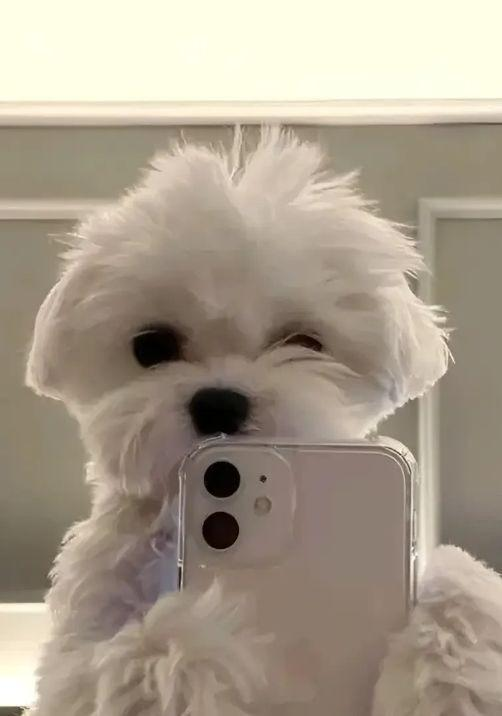adult_dog: (25, 126, 502, 716)
